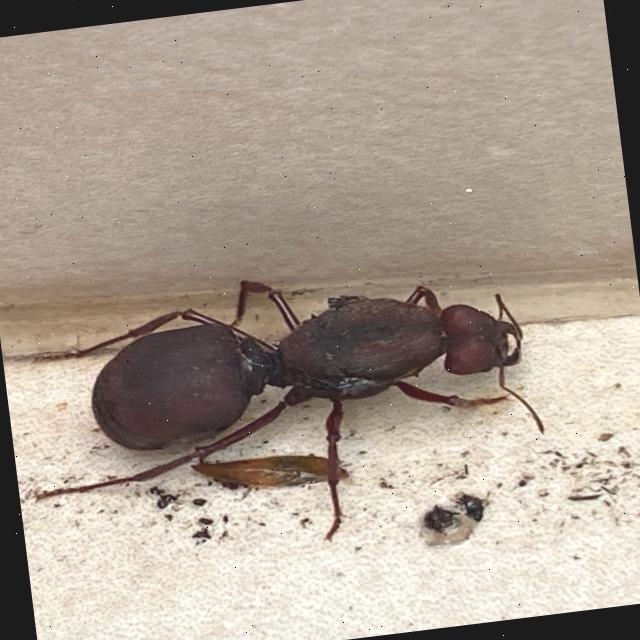Alive-Female-Dealate: (8, 245, 556, 579)
